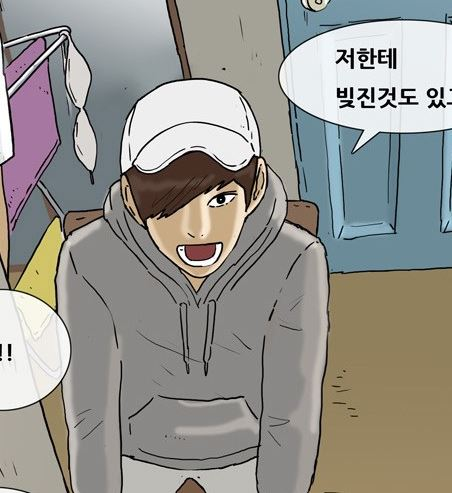hat: (116, 77, 266, 171)
